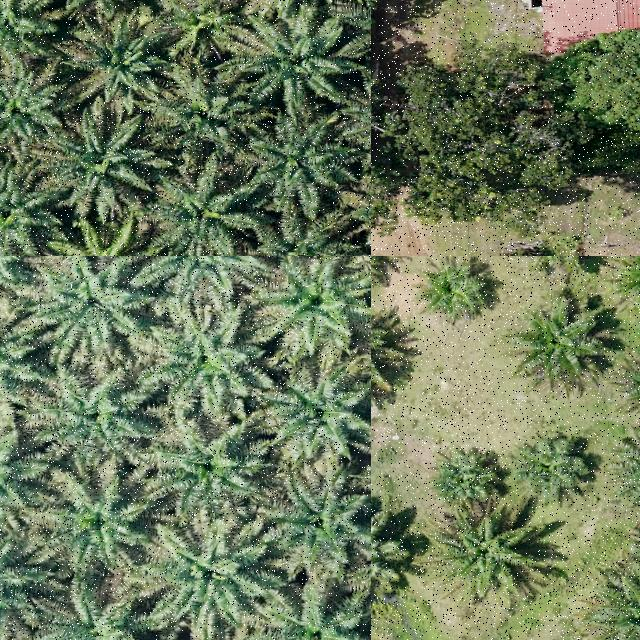Ganoderma: (73, 240, 129, 256)
